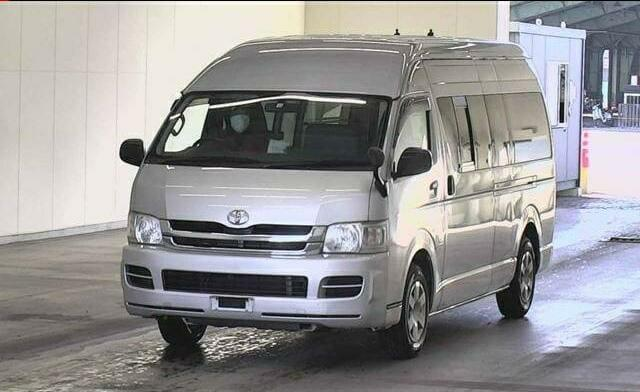van: (112, 24, 563, 349)
